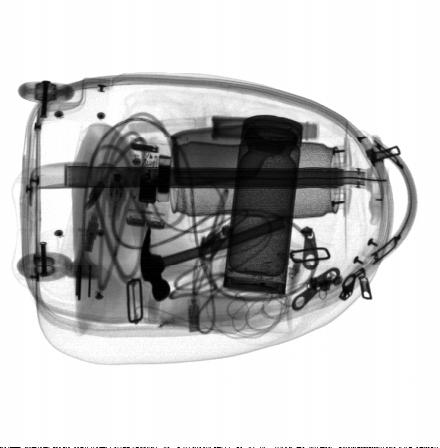Hammer: (140, 209, 293, 302)
